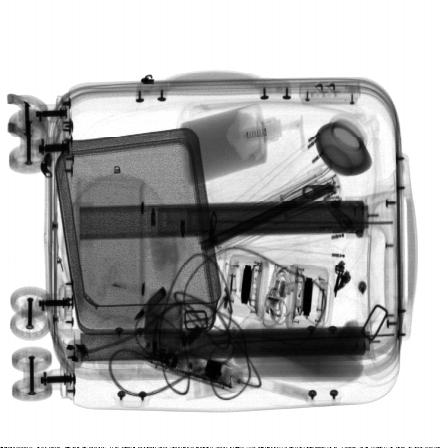Bullet: (133, 285, 168, 321)
